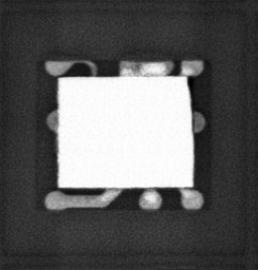DIE_BROKEN: (186, 73, 196, 119)
